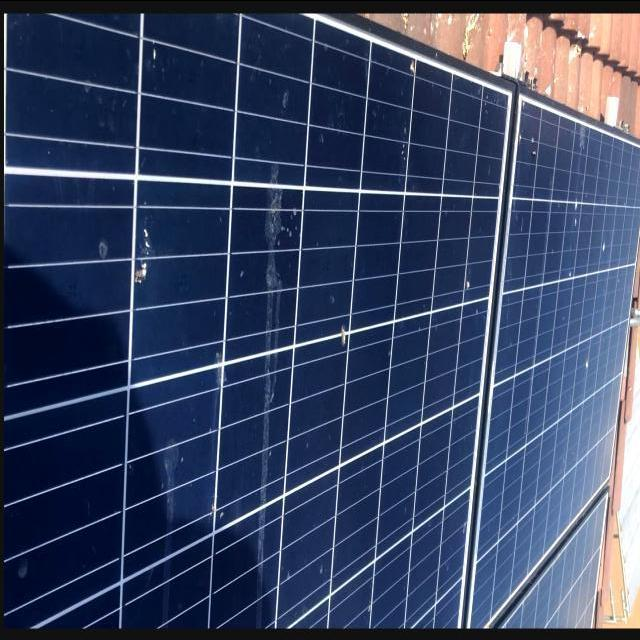soiled: (0, 15, 513, 640), (490, 55, 637, 405)
